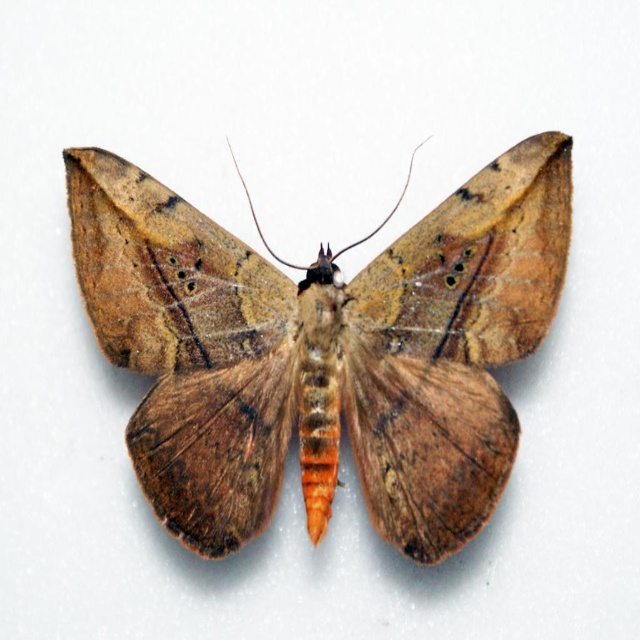Butterfly: (55, 133, 575, 575)
